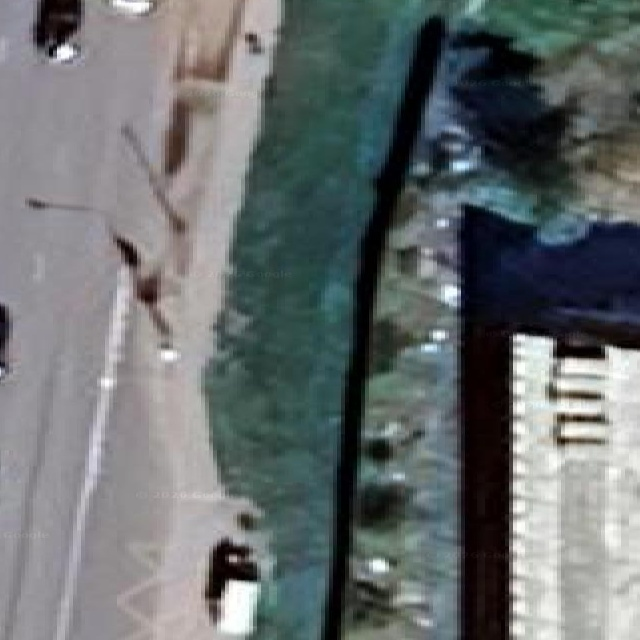car: (203, 536, 260, 631), (32, 0, 81, 62), (104, 0, 155, 16), (0, 303, 9, 379), (243, 31, 263, 54)
